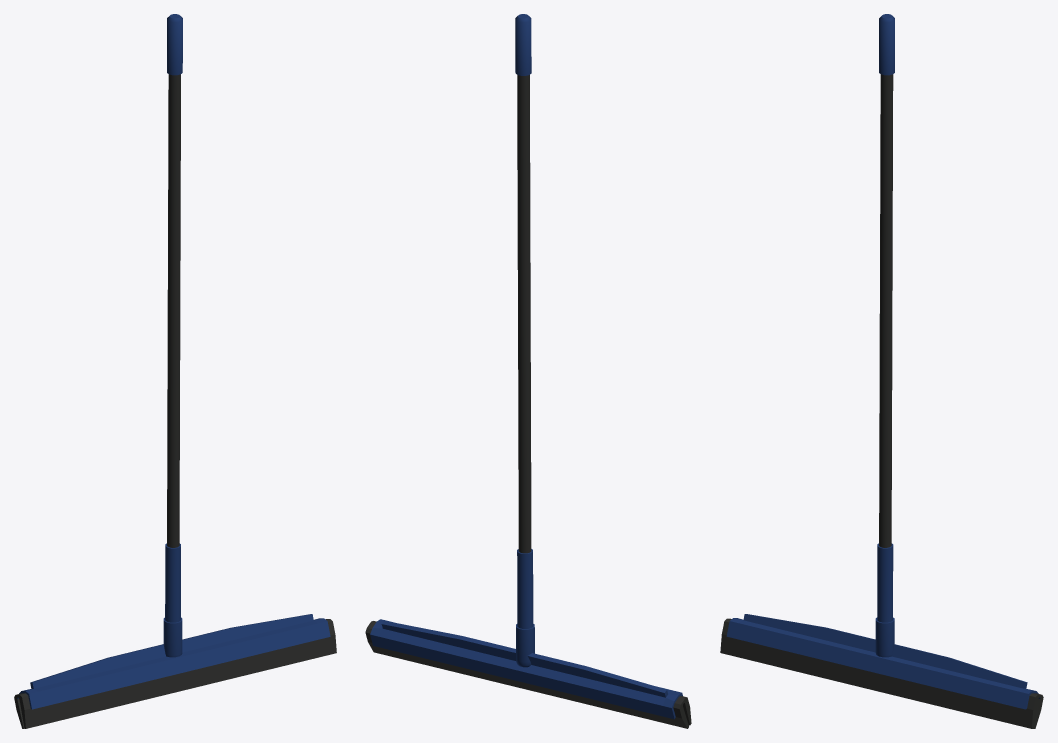
Rendered from Rodo01.fbx.
The picture shows the model from 3 angles, left to right: view 1: azimuth 30°, elevation 25°; view 2: azimuth 150°, elevation 25°; view 3: azimuth 330°, elevation 25°; orthographic projection.
Visible parts, largest first — view 1: Rodo; view 2: Rodo; view 3: Rodo.
Boxes of the visible parts, x1,y1,x2,y2 form: Rodo: (14, 14, 336, 728); Rodo: (365, 14, 691, 728); Rodo: (720, 14, 1043, 728).
Bounding box in the file's own units: 62.45 × 129 × 4.69.
